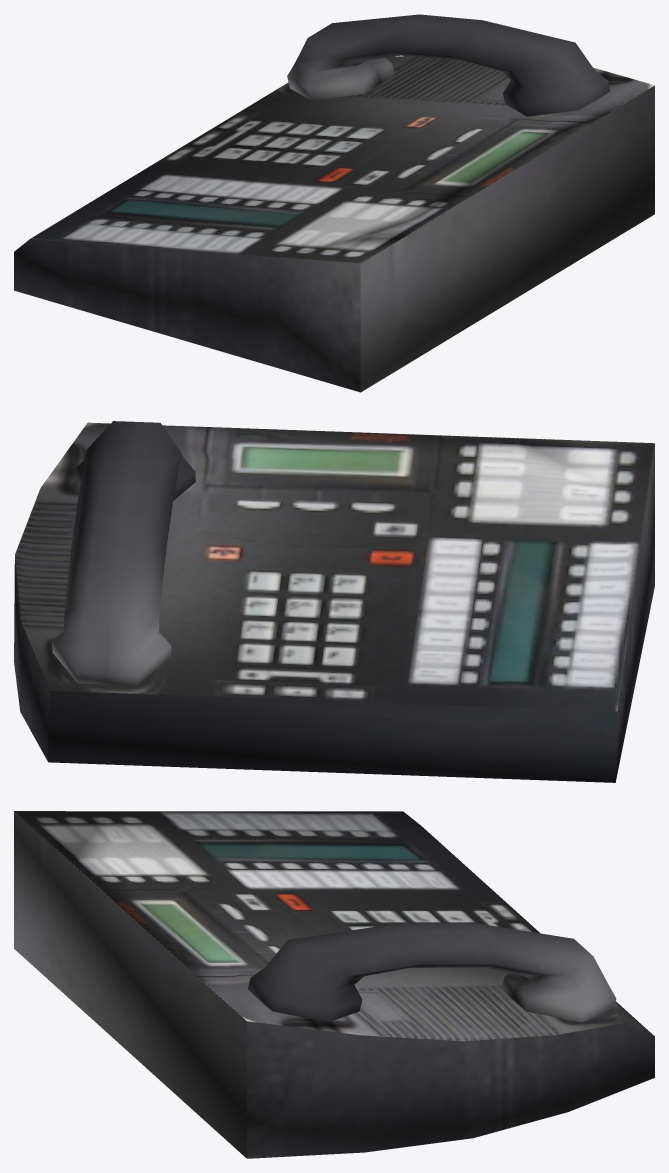
File: yakuza_office_phone.FBX
3 renders of one model, top to bottom at view 1: azimuth 30°, elevation 25°; view 2: azimuth 150°, elevation 25°; view 3: azimuth 270°, elevation 25°, orthographic. The views are drawn at different scales.
Parts seen in each view (by area): view 1: yakuza_office_phone; view 2: yakuza_office_phone; view 3: yakuza_office_phone.
Boxes of the visible parts, x1=… form: yakuza_office_phone: x1=14, y1=14, x2=654, y2=392; yakuza_office_phone: x1=14, y1=421, x2=654, y2=782; yakuza_office_phone: x1=14, y1=811, x2=654, y2=1158.
Size of the model in its own units: 42.66 by 11.93 by 39.69.
